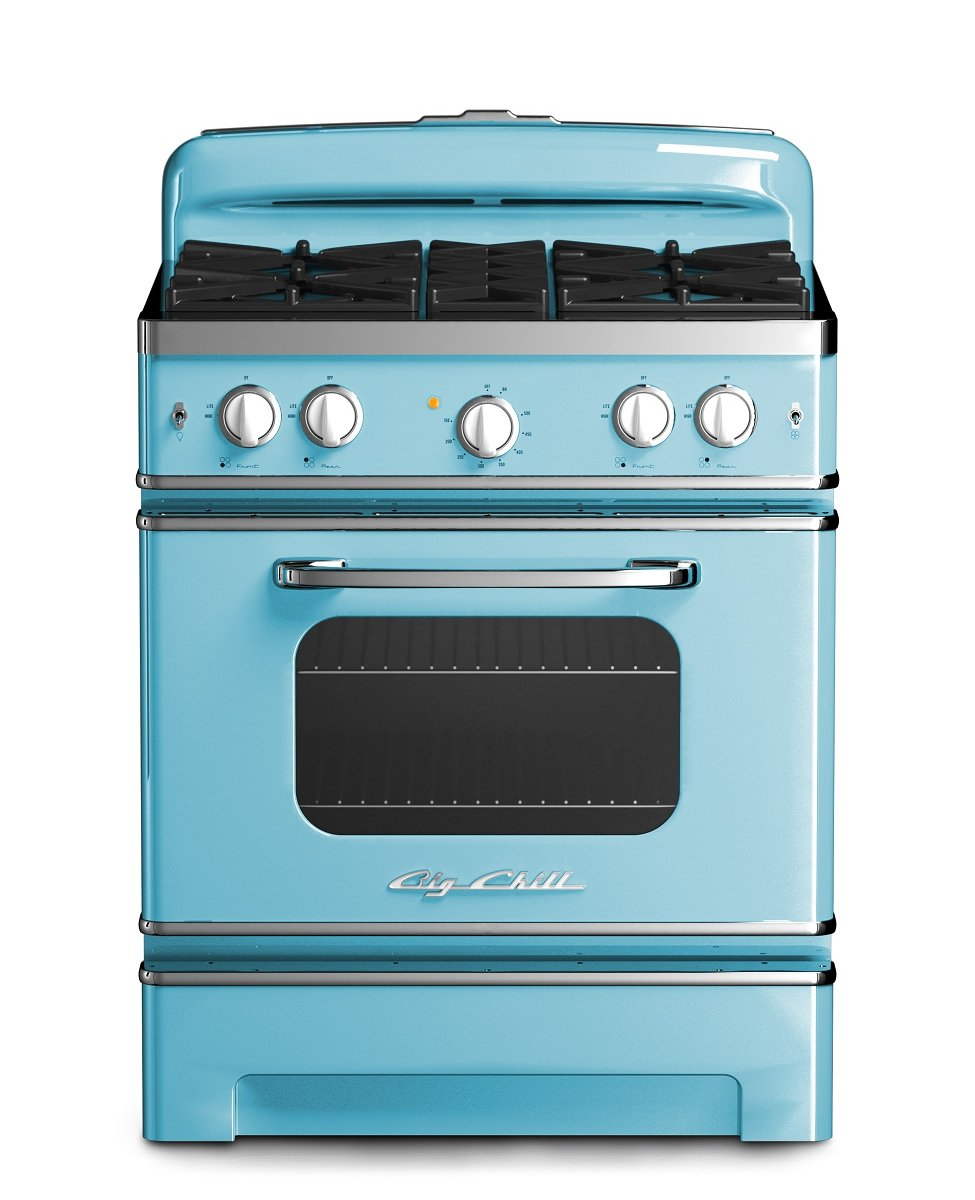stove: (103, 115, 877, 1187)
